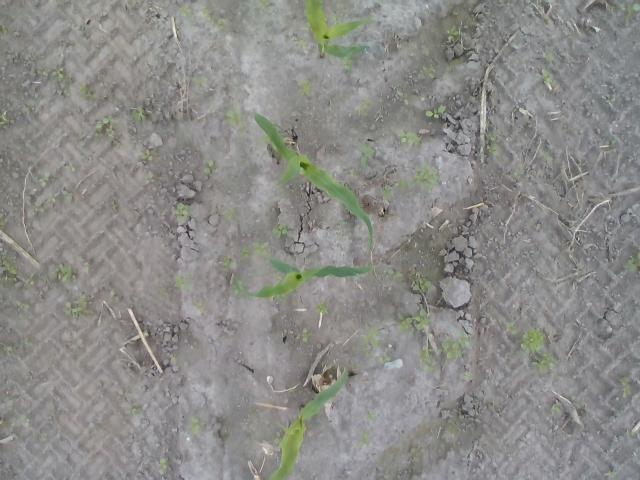Maize: (252, 111, 374, 256), (268, 366, 349, 480), (246, 257, 372, 300), (303, 0, 372, 61)
Weeds: (520, 326, 558, 370), (398, 306, 433, 341), (438, 326, 472, 362), (414, 166, 440, 194), (50, 64, 72, 97), (64, 294, 95, 316), (202, 0, 224, 31), (0, 247, 17, 285), (359, 324, 382, 352), (0, 337, 32, 356), (616, 0, 640, 24), (354, 142, 376, 168), (226, 272, 249, 296), (222, 105, 244, 129), (95, 114, 114, 138), (354, 97, 374, 118), (418, 345, 433, 373), (410, 275, 432, 294), (423, 104, 448, 120), (624, 248, 640, 273), (399, 128, 423, 144), (173, 271, 193, 290), (56, 262, 74, 281), (175, 202, 192, 222), (296, 78, 312, 98), (78, 82, 95, 100), (621, 373, 633, 398), (485, 133, 497, 158), (254, 240, 272, 256), (298, 326, 314, 344), (104, 287, 120, 304), (272, 222, 288, 238), (446, 24, 460, 42), (506, 320, 520, 338), (178, 2, 194, 17), (312, 302, 329, 316), (190, 414, 202, 433), (422, 64, 436, 80), (397, 88, 409, 106), (398, 179, 416, 191), (14, 300, 32, 312), (223, 206, 238, 220), (239, 243, 254, 257), (293, 36, 308, 50), (202, 159, 215, 175), (193, 75, 207, 89), (606, 465, 619, 480), (132, 105, 144, 121), (358, 430, 368, 449), (138, 149, 153, 161), (159, 455, 168, 473), (383, 184, 393, 200), (32, 206, 48, 216), (129, 404, 142, 416), (0, 110, 9, 126), (343, 56, 352, 72), (606, 134, 618, 146), (26, 272, 36, 286), (388, 270, 402, 280), (542, 70, 552, 84), (64, 162, 76, 173), (272, 270, 280, 286), (248, 0, 256, 16), (144, 175, 158, 184), (462, 370, 472, 382), (551, 402, 561, 414), (378, 356, 391, 365), (543, 150, 553, 161), (542, 52, 554, 61), (258, 0, 270, 9), (447, 423, 457, 433), (368, 410, 378, 420), (223, 255, 232, 266), (333, 15, 343, 24), (48, 191, 56, 202), (38, 175, 50, 182), (0, 24, 8, 34)
